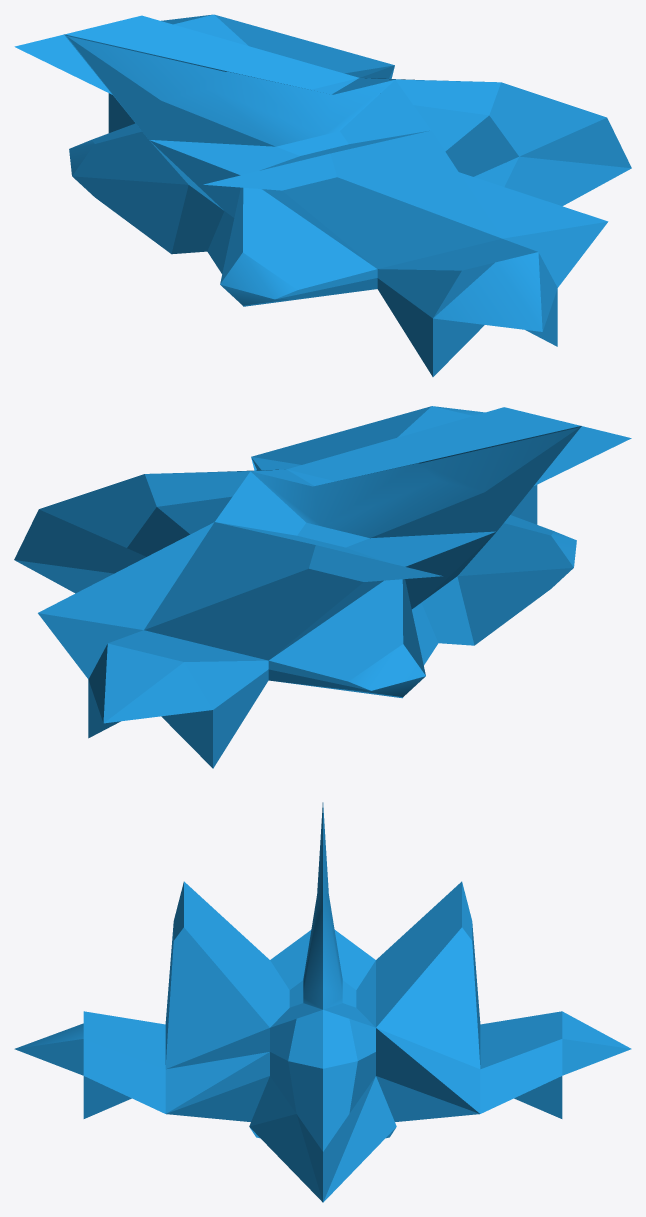
File: Pretty_Cool_Ship.glb
The picture shows the model from 3 angles, top to bottom: view 1: azimuth 30°, elevation 25°; view 2: azimuth 150°, elevation 25°; view 3: azimuth 270°, elevation 25°; orthographic projection. The views are drawn at different scales.
Visible parts, largest first — view 1: Cube_2, Cube_0, Cube_1; view 2: Cube_2, Cube_0, Cube_1; view 3: Cube_2, Cube_1, Cube_0.
Boxes of the visible parts, x1,y1,x2,y2 form: Cube_2: [14, 14, 631, 376]; Cube_0: [64, 14, 557, 331]; Cube_1: [365, 78, 606, 176]; Cube_2: [14, 406, 631, 768]; Cube_0: [88, 406, 581, 723]; Cube_1: [39, 469, 278, 556]; Cube_2: [83, 881, 562, 1202]; Cube_1: [270, 1010, 375, 1151]; Cube_0: [14, 802, 631, 1075].
Size of the model in its own units: 9.11 by 4.74 by 11.64.
